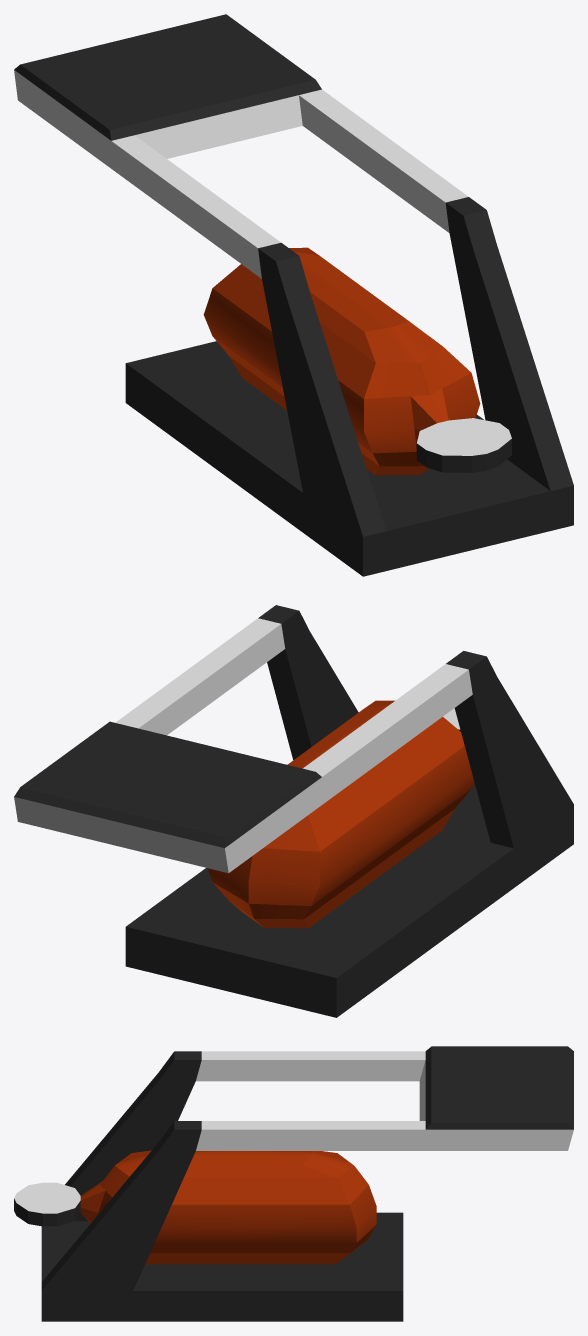
The model's file is tireFootPump.fbx.
3 renders of one model, top to bottom at view 1: azimuth 30°, elevation 25°; view 2: azimuth 150°, elevation 25°; view 3: azimuth 270°, elevation 25°, orthographic. The views are drawn at different scales.
Parts seen in each view (by area): view 1: pCube1; view 2: pCube1; view 3: pCube1.
Boxes of the visible parts, x1,y1,x2,y2 form: pCube1: (14, 14, 573, 576); pCube1: (14, 605, 573, 1017); pCube1: (14, 1046, 573, 1321).
Size of the model in its own units: 1.37 by 1.6 by 4.12.
